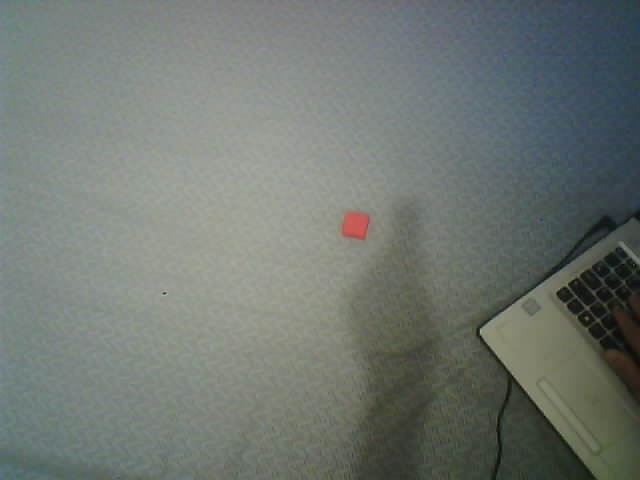lego: (340, 210, 370, 240)
